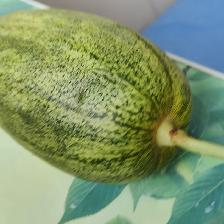gua: (33, 26, 175, 181)
